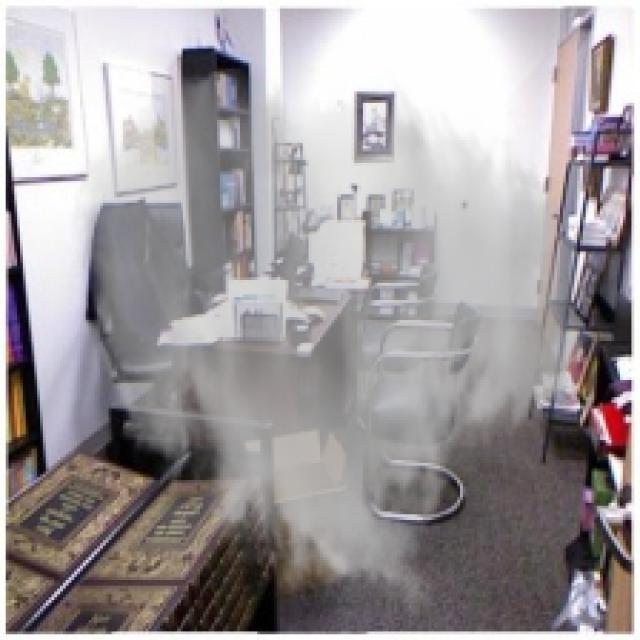smoke: (69, 63, 594, 617)
